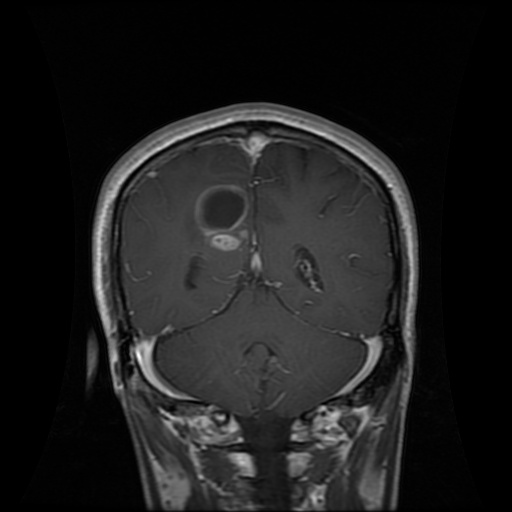glioma: (191, 180, 257, 251)
